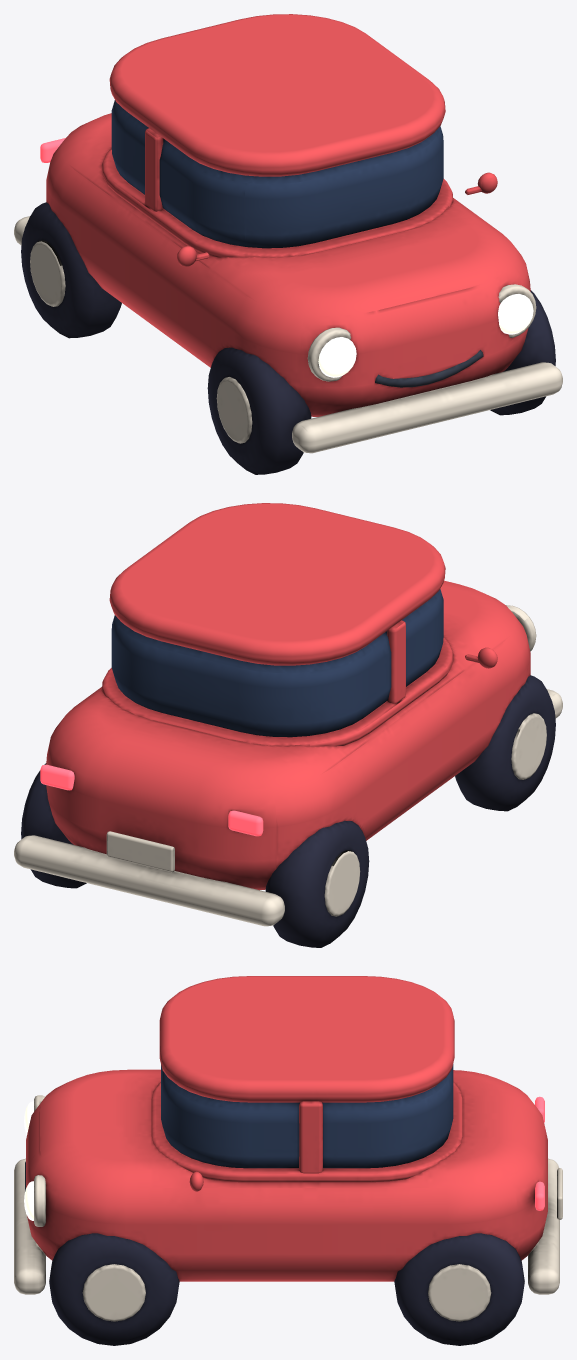
File: toy_car.glb
The picture shows the model from 3 angles, top to bottom: view 1: azimuth 30°, elevation 25°; view 2: azimuth 150°, elevation 25°; view 3: azimuth 270°, elevation 25°; orthographic projection. The views are drawn at different scales.
Parts seen in each view (by area): view 1: toy_car; view 2: toy_car; view 3: toy_car.
Boxes of the visible parts, x1,y1,x2,y2 form: toy_car: (14,14,562,474); toy_car: (14,503,562,947); toy_car: (14,976,562,1345).
Size of the model in its own units: 1.7 by 1.41 by 2.74.
7 materials, 5 textured.
